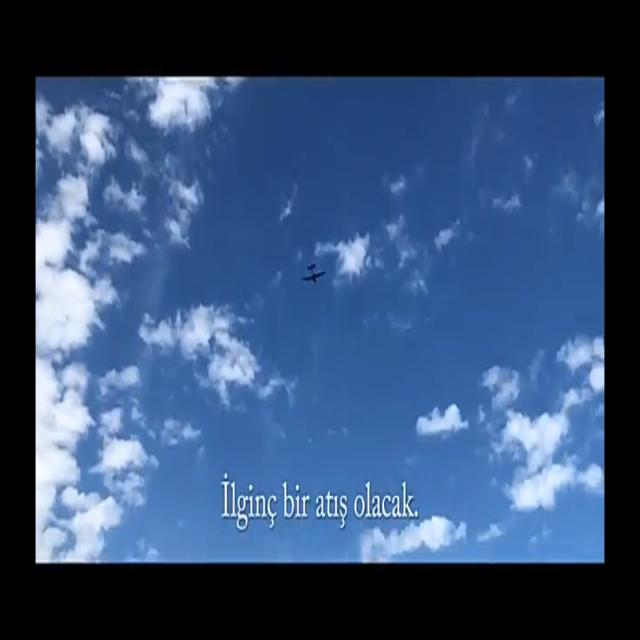iha: (302, 262, 326, 286)
